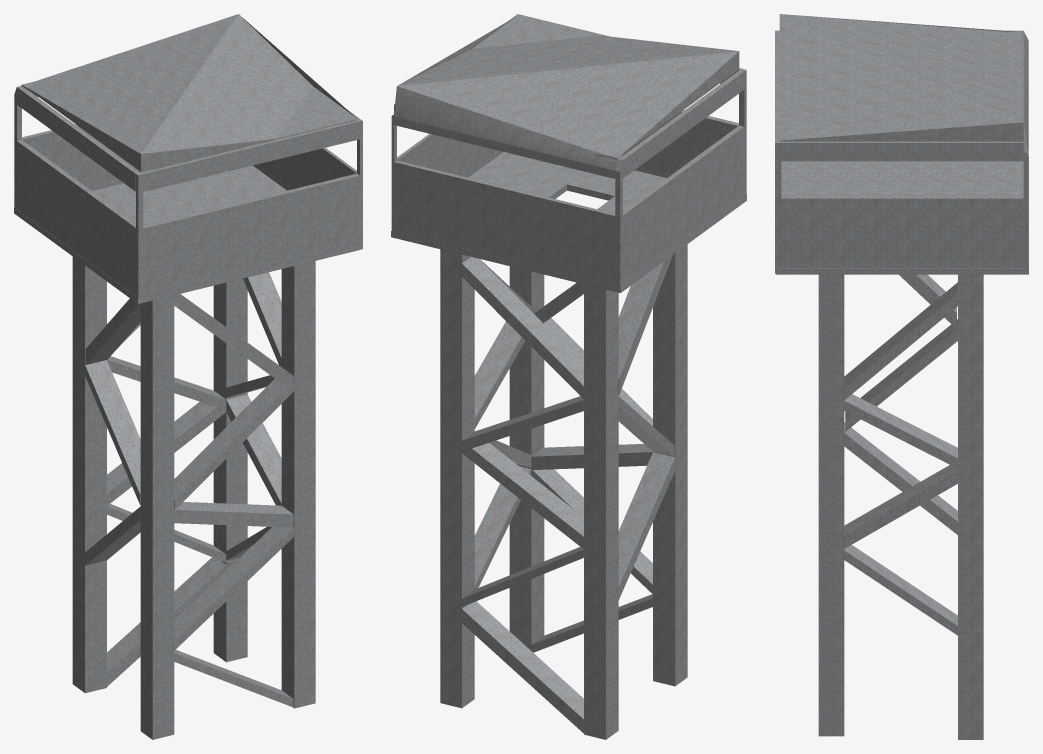
File: BLOCKYGON_WATCH TOWER.obj
3 renders of one model, left to right at view 1: azimuth 30°, elevation 25°; view 2: azimuth 150°, elevation 25°; view 3: azimuth 270°, elevation 25°, orthographic. The views are drawn at different scales.
Visible parts, largest first — view 1: BLOCKYGON_WATCH TOWER; view 2: BLOCKYGON_WATCH TOWER; view 3: BLOCKYGON_WATCH TOWER.
Boxes of the visible parts, x1,y1,x2,y2 form: BLOCKYGON_WATCH TOWER: [14, 14, 362, 739]; BLOCKYGON_WATCH TOWER: [391, 14, 746, 739]; BLOCKYGON_WATCH TOWER: [775, 14, 1028, 739].
Bounding box in the file's own units: 8.3 × 21.64 × 7.91.
1 material, 1 textured.
